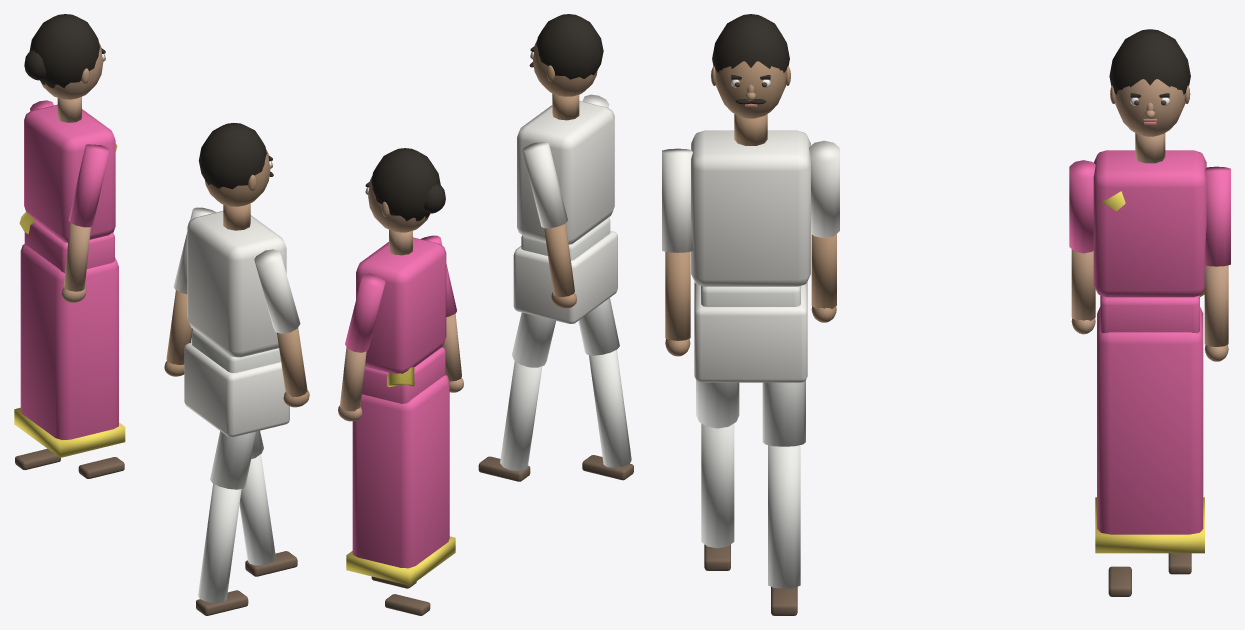
The model's file is pedestrians.glb.
3 views of the same model, side by side, from view 1: azimuth 30°, elevation 25°; view 2: azimuth 150°, elevation 25°; view 3: azimuth 270°, elevation 25° (orthographic). The views are drawn at different scales.
Parts seen in each view (by area): view 1: PedF_SareeSkirt, PedM_Torso, PedF_Torso, PedM_Skirt, PedF_Hair, PedM_Hair, PedM_Shin_L, PedM_Shin_R, PedM_UpperArm_L, PedF_UpperArm_L, PedF_Pelvis, PedM_Thigh_L (+15 smaller); view 2: PedF_SareeSkirt, PedM_Torso, PedF_Torso, PedM_Skirt, PedF_Hair, PedM_Hair, PedM_Shin_L, PedM_Shin_R, PedM_UpperArm_R, PedF_Pelvis, PedF_UpperArm_R, PedF_GoldHem (+16 smaller); view 3: PedF_SareeSkirt, PedM_Torso, PedF_Torso, PedM_Skirt, PedM_Shin_R, PedM_Shin_L, PedF_Hair, PedF_Pelvis, PedM_Hair, PedM_UpperArm_L, PedM_Thigh_R, PedM_UpperArm_R (+14 smaller).
Boxes of the visible parts, bbox=[...] form: PedF_SareeSkirt: bbox=[20, 244, 118, 439]; PedM_Torso: bbox=[187, 211, 286, 357]; PedF_Torso: bbox=[24, 104, 115, 242]; PedM_Skirt: bbox=[184, 342, 289, 437]; PedF_Hair: bbox=[29, 14, 100, 88]; PedM_Hair: bbox=[198, 123, 266, 189]; PedM_Shin_L: bbox=[198, 483, 241, 603]; PedM_Shin_R: bbox=[239, 454, 275, 565]; PedM_UpperArm_L: bbox=[254, 249, 300, 333]; PedF_UpperArm_L: bbox=[68, 144, 109, 227]; PedF_Pelvis: bbox=[24, 222, 114, 273]; PedM_Thigh_L: bbox=[210, 431, 256, 489]; PedF_SareeSkirt: bbox=[352, 375, 449, 568]; PedM_Torso: bbox=[517, 101, 614, 244]; PedF_Torso: bbox=[356, 237, 446, 373]; PedM_Skirt: bbox=[513, 230, 617, 323]; PedF_Hair: bbox=[371, 148, 440, 221]; PedM_Hair: bbox=[536, 14, 603, 79]; PedM_Shin_L: bbox=[589, 349, 631, 467]; PedM_Shin_R: bbox=[500, 361, 542, 470]; PedM_UpperArm_R: bbox=[522, 142, 567, 228]; PedF_Pelvis: bbox=[362, 347, 445, 403]; PedF_UpperArm_R: bbox=[345, 273, 385, 352]; PedF_GoldHem: bbox=[346, 536, 455, 585]; PedF_SareeSkirt: bbox=[1097, 307, 1203, 534]; PedM_Torso: bbox=[691, 130, 810, 286]; PedF_Torso: bbox=[1093, 150, 1206, 297]; PedM_Skirt: bbox=[694, 282, 807, 382]; PedM_Shin_R: bbox=[768, 445, 800, 588]; PedM_Shin_L: bbox=[701, 423, 734, 548]; PedF_Hair: bbox=[1109, 29, 1190, 94]; PedF_Pelvis: bbox=[1100, 295, 1199, 333]; PedM_Hair: bbox=[712, 14, 789, 72]; PedM_UpperArm_L: bbox=[662, 148, 693, 252]; PedM_Thigh_R: bbox=[762, 380, 805, 446]; PedM_UpperArm_R: bbox=[809, 140, 839, 238].
Bounding box in the file's own units: 0.5015 × 1.85 × 1.71.
